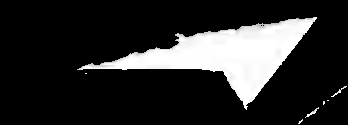Plane: (72, 5, 336, 116)
